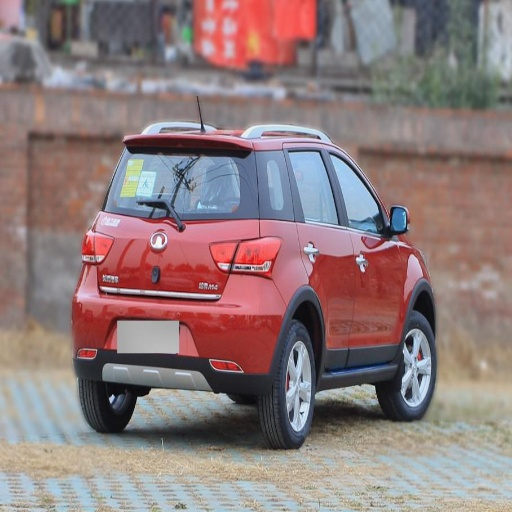back_bumper: (73, 273, 287, 390)
back_right_door: (280, 140, 355, 364)
trunk: (91, 214, 254, 316)
